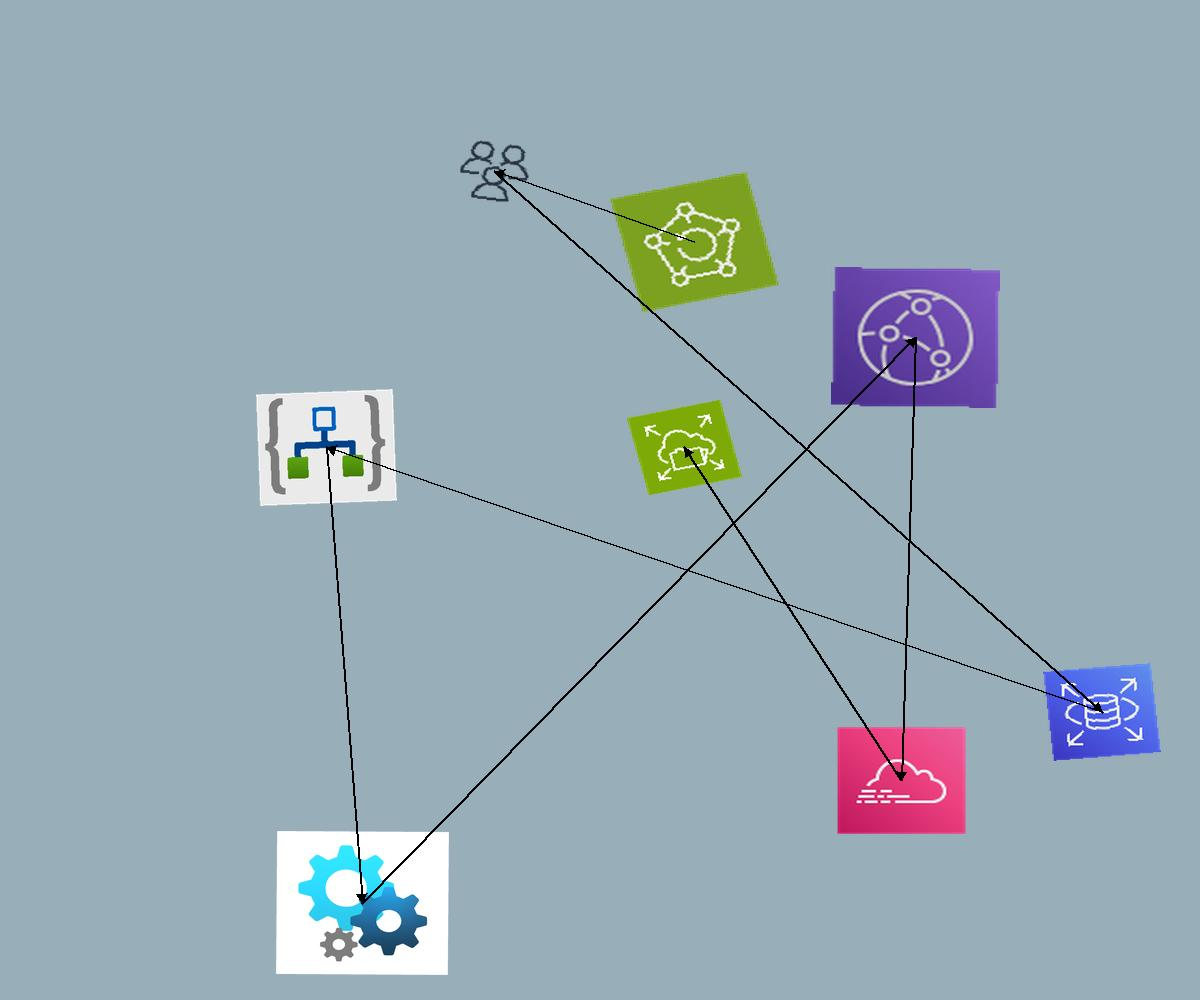AWS-Backup: (609, 171, 780, 313)
AWS-CloudFront: (831, 267, 1000, 408)
AWS-CloudTrail: (836, 726, 967, 835)
AWS-EFS: (626, 399, 743, 496)
AWS-RDS: (1043, 663, 1161, 761)
AWS-Res_Users: (451, 135, 538, 208)
Azure_api: (276, 831, 449, 975)
Azure_integration-204-Logic-Apps: (256, 389, 397, 506)
